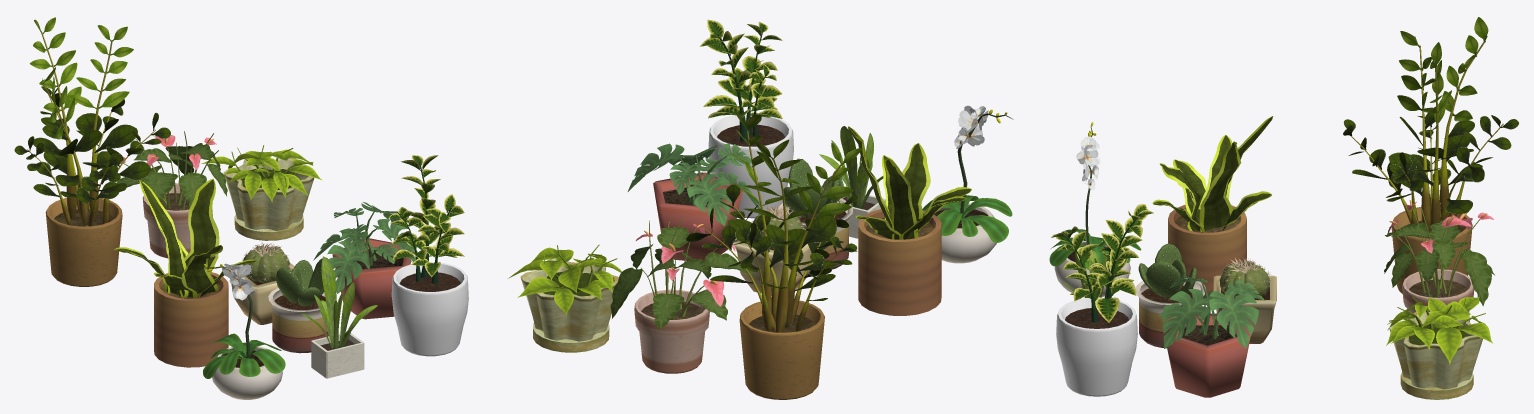
The model's file is Plants.fbx.
3 views of the same model, side by side, from view 1: azimuth 30°, elevation 25°; view 2: azimuth 150°, elevation 25°; view 3: azimuth 270°, elevation 25° (orthographic). The views are drawn at different scales.
Visible parts, largest first — view 1: plant0_plant_0_0, pot6_pot_6_0, pot1_pot_1_0, plant1_plant_1_0, pot0_pot_0_0, pot3_pot_3_0, plant6_plant_6_0, plant9_plant_9_0, plant8_plant_8_0, plant5_plant_5_0, plant3_plant_3_0, pot8_pot_8_0 (+8 smaller); view 2: plant0_plant_0_0, pot1_pot_1_0, pot0_pot_0_0, plant9_plant_9_0, pot3_pot_3_0, plant1_plant_1_0, plant6_plant_6_0, pot6_pot_6_0, pot9_pot_9_0, plant8_plant_8_0, plant5_plant_5_0, pot8_pot_8_0 (+8 smaller); view 3: plant0_plant_0_0, pot6_pot_6_0, plant1_plant_1_0, plant9_plant_9_0, pot8_pot_8_0, pot3_pot_3_0, plant6_plant_6_0, plant8_plant_8_0, pot1_pot_1_0, plant3_plant_3_0, plant5_plant_5_0, plant7_plant_7_0 (+7 smaller).
Part boxes in pixels (x1,y1,x2,y2): plant0_plant_0_0: (14, 17, 170, 226); pot6_pot_6_0: (391, 262, 468, 356); pot1_pot_1_0: (154, 272, 228, 367); plant1_plant_1_0: (114, 178, 257, 298); pot0_pot_0_0: (45, 198, 122, 286); pot3_pot_3_0: (223, 158, 314, 240); plant6_plant_6_0: (388, 155, 464, 283); plant9_plant_9_0: (116, 131, 227, 210); plant8_plant_8_0: (313, 202, 417, 293); plant5_plant_5_0: (200, 263, 285, 378); plant3_plant_3_0: (201, 145, 322, 202); pot8_pot_8_0: (332, 238, 411, 319); plant0_plant_0_0: (686, 111, 862, 332); pot1_pot_1_0: (858, 209, 941, 315); pot0_pot_0_0: (739, 300, 824, 399); plant9_plant_9_0: (610, 219, 754, 330); pot3_pot_3_0: (520, 259, 618, 352); plant1_plant_1_0: (848, 126, 971, 239); plant6_plant_6_0: (700, 19, 782, 141); pot6_pot_6_0: (708, 113, 793, 218); pot9_pot_9_0: (634, 289, 709, 373); plant8_plant_8_0: (627, 143, 760, 226); plant5_plant_5_0: (922, 105, 1013, 242); pot8_pot_8_0: (653, 172, 742, 260); plant0_plant_0_0: (1343, 17, 1518, 237); pot6_pot_6_0: (1056, 297, 1137, 396); plant1_plant_1_0: (1152, 116, 1273, 232); plant9_plant_9_0: (1384, 200, 1494, 306); pot8_pot_8_0: (1164, 313, 1250, 397); pot3_pot_3_0: (1389, 311, 1482, 399); plant6_plant_6_0: (1051, 204, 1153, 322); plant8_plant_8_0: (1158, 277, 1265, 348); pot1_pot_1_0: (1168, 205, 1246, 305); plant3_plant_3_0: (1386, 296, 1492, 364); plant5_plant_5_0: (1049, 122, 1141, 270); plant7_plant_7_0: (1138, 243, 1196, 297).
Size of the model in its own units: 999 by 759 by 1254.
